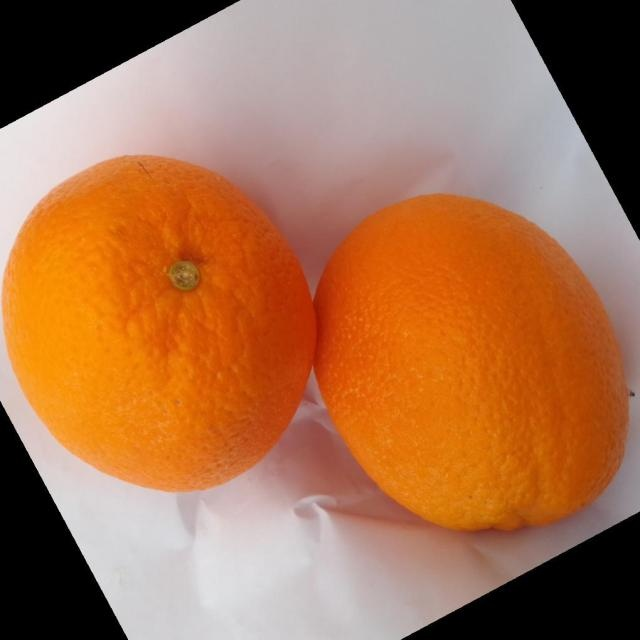agrume: (312, 191, 630, 533), (0, 152, 316, 492)
